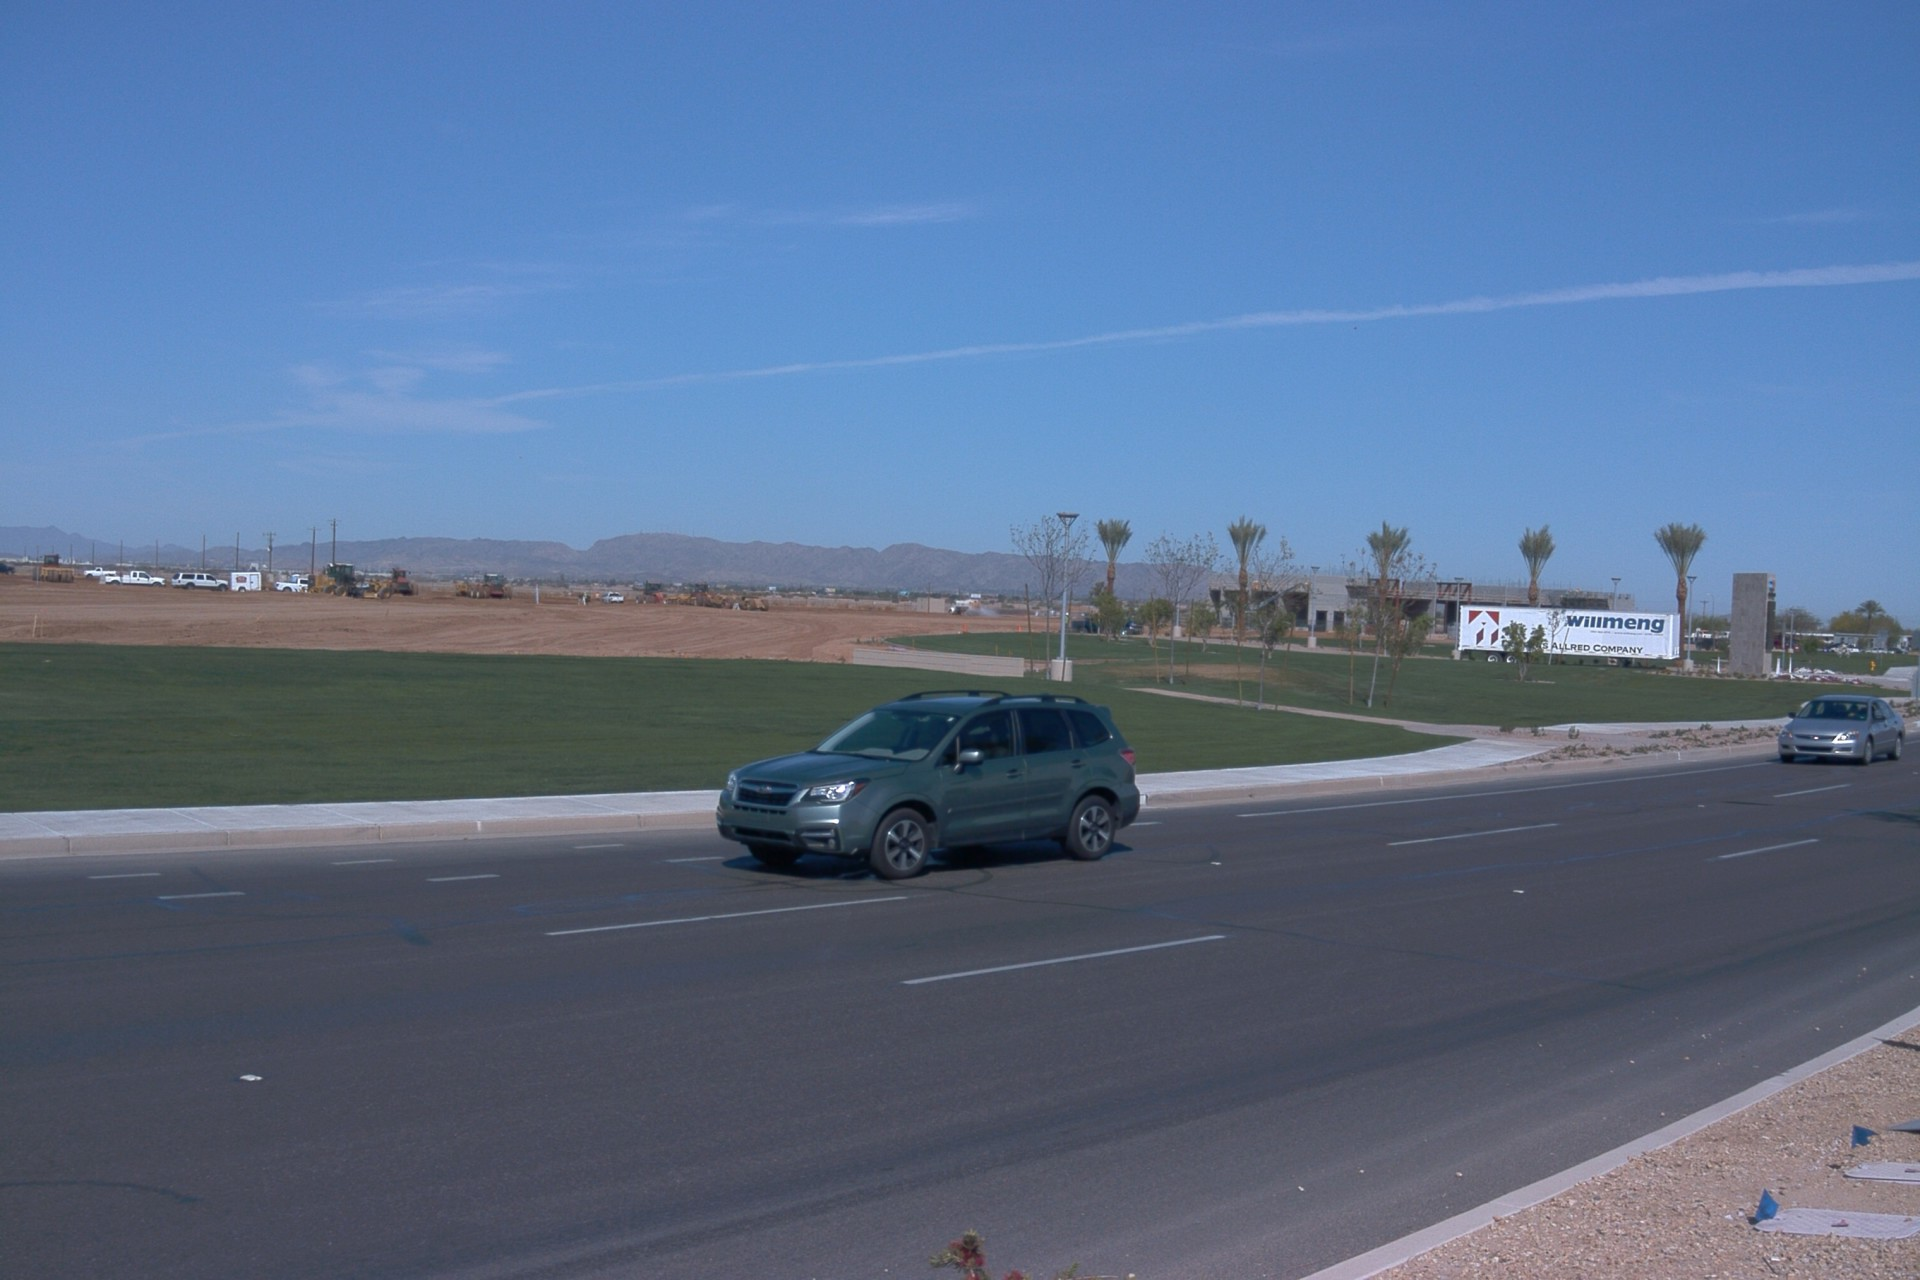TYPE_PEDESTRIAN: (582, 591, 590, 605), (1064, 613, 1069, 634), (594, 591, 600, 603)
TYPE_VEHICLE: (711, 689, 1141, 881), (1453, 603, 1686, 669), (1778, 696, 1904, 768), (294, 561, 391, 604), (1247, 578, 1311, 614), (1066, 613, 1144, 637), (458, 569, 516, 600), (173, 572, 233, 592), (104, 572, 166, 590), (940, 599, 984, 619), (223, 572, 265, 592), (270, 574, 312, 591), (84, 568, 120, 582), (390, 570, 412, 585), (604, 589, 627, 603), (0, 561, 15, 579)
